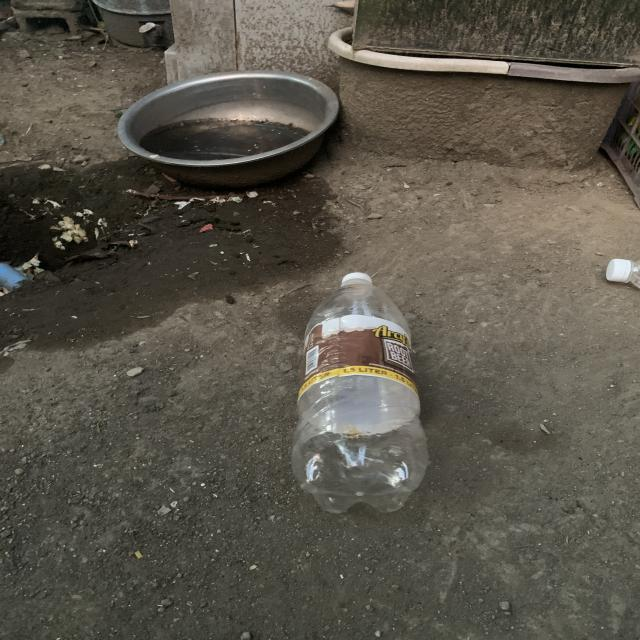Bottle: (292, 273, 428, 513)
